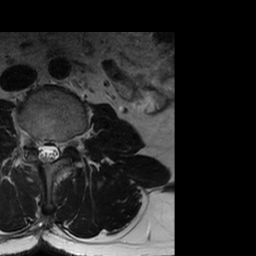CCS_normal: (44, 134, 51, 171)
LFS_normal: (59, 131, 68, 158)
LLS_normal: (51, 132, 59, 165)
RFS_normal: (27, 126, 36, 154)
RLS_normal: (36, 132, 44, 166)
